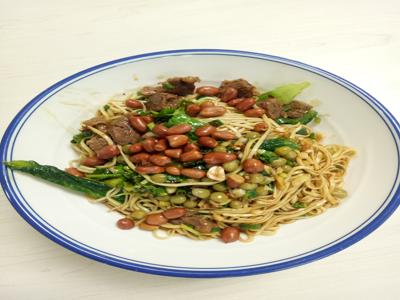cm: (61, 66, 351, 251)
